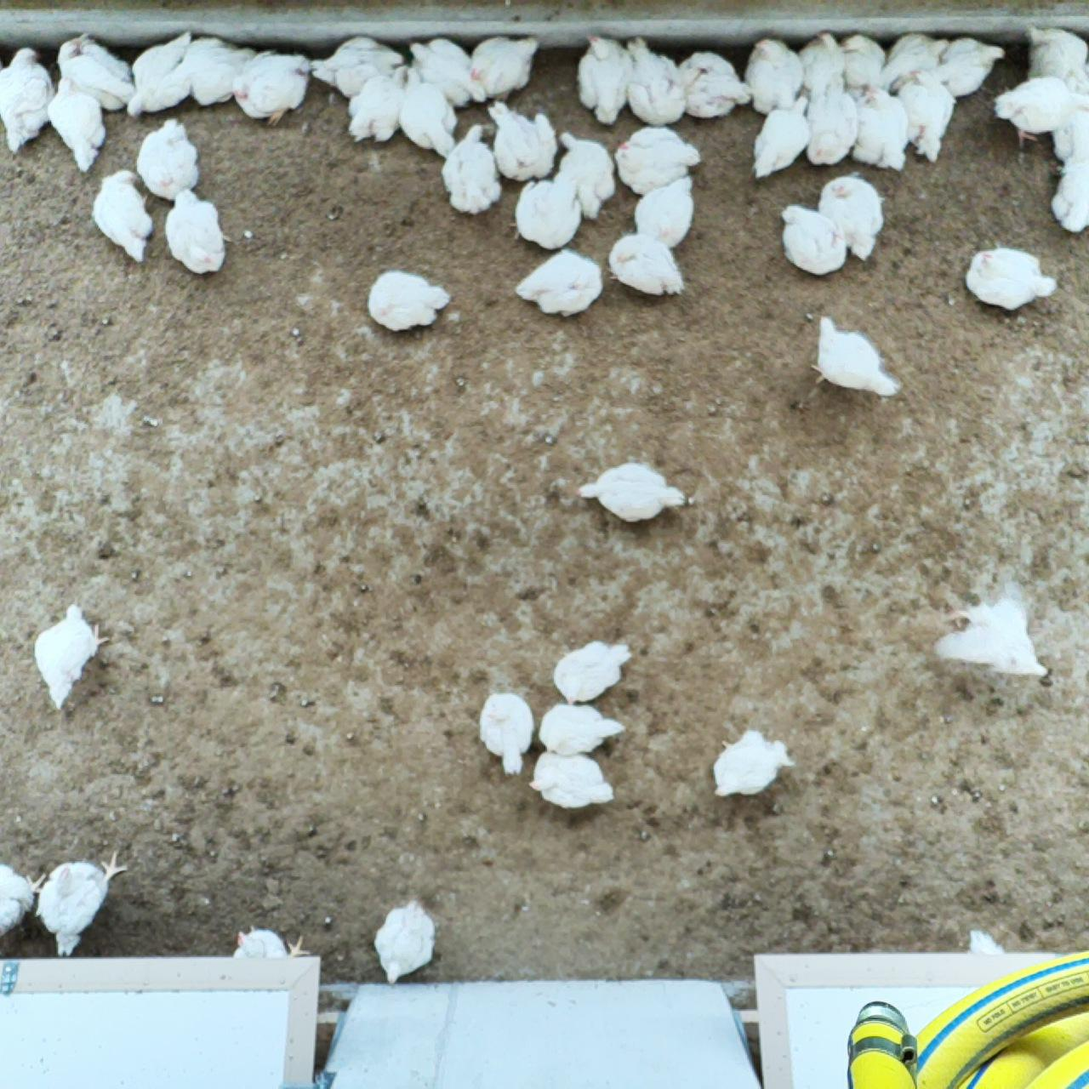chicken: (927, 585, 1051, 682), (37, 847, 131, 960), (808, 308, 904, 402), (33, 598, 111, 712), (574, 454, 690, 525), (308, 32, 411, 106), (160, 182, 235, 281), (991, 72, 1085, 150), (511, 246, 607, 322), (437, 119, 508, 221), (962, 242, 1060, 315), (710, 725, 799, 804), (125, 28, 200, 121), (90, 167, 159, 268), (56, 32, 139, 115), (230, 48, 313, 131), (404, 35, 493, 110), (621, 33, 691, 128), (612, 124, 703, 196), (487, 100, 562, 187), (0, 43, 57, 157), (571, 27, 634, 130), (365, 266, 453, 338), (46, 76, 109, 176), (819, 177, 889, 265), (373, 896, 441, 986), (801, 71, 864, 168), (511, 175, 586, 255), (527, 747, 619, 812), (558, 125, 619, 222), (344, 61, 410, 150), (551, 638, 636, 707), (184, 33, 259, 110), (401, 72, 463, 165), (748, 91, 810, 184), (135, 117, 201, 202), (778, 199, 847, 279), (902, 68, 958, 165), (478, 688, 536, 780), (743, 30, 805, 115), (536, 702, 630, 758), (677, 49, 750, 121), (468, 33, 543, 103), (634, 174, 701, 251), (609, 234, 687, 299), (1023, 20, 1089, 93), (856, 88, 909, 174), (934, 34, 1008, 95), (1049, 133, 1089, 239), (879, 29, 950, 88), (0, 859, 48, 941), (232, 920, 313, 963), (796, 28, 848, 94), (841, 31, 893, 92)
